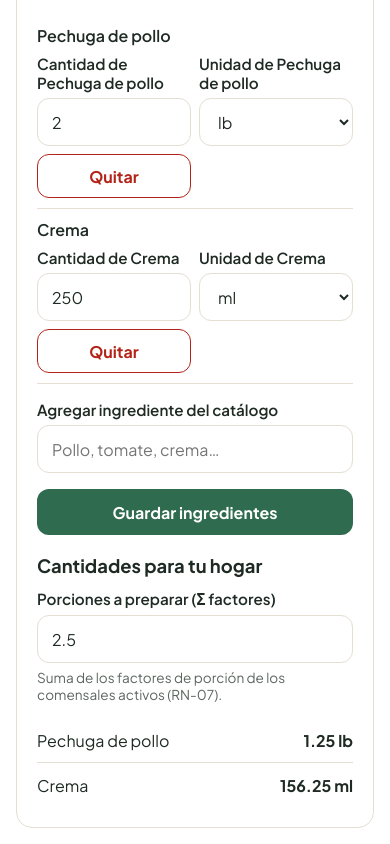
Editor de ingredientes (HU-12) › CA-12.5 Σ factores 2.5: "Pechuga de pollo" 1.25 lb y "Crema" 156.25 ml; ajustar Σ recalcula
The width and height of the screenshot is (390, 844).
(page scrolled)
Check: the text "1.25 lb" is shown, box [304, 730, 353, 751]
Check: the text "156.25 ml" is shown, box [280, 775, 353, 796]
Step 1. Replace the text in the number field labelled "Porciones a preparar (Σ factores)" with "8" → (195, 639), box [37, 615, 353, 663]
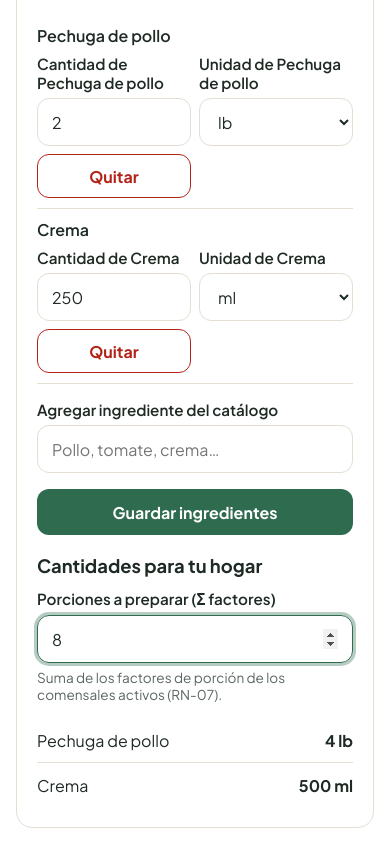
Check: the text "4 lb" is shown, box [325, 730, 353, 751]
Check: the text "500 ml" is shown, box [299, 775, 353, 796]
Step 2. Clear the number field labelled "Porciones a preparar (Σ factores)" → (195, 639), box [37, 615, 353, 663]
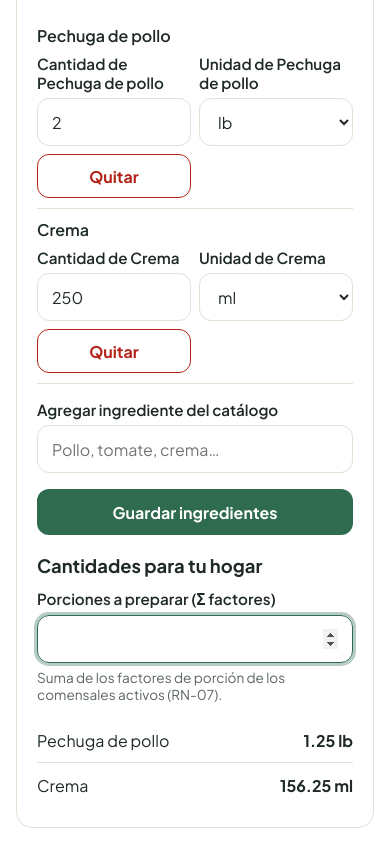
Check: the text "1.25 lb" is shown, box [304, 730, 353, 751]
